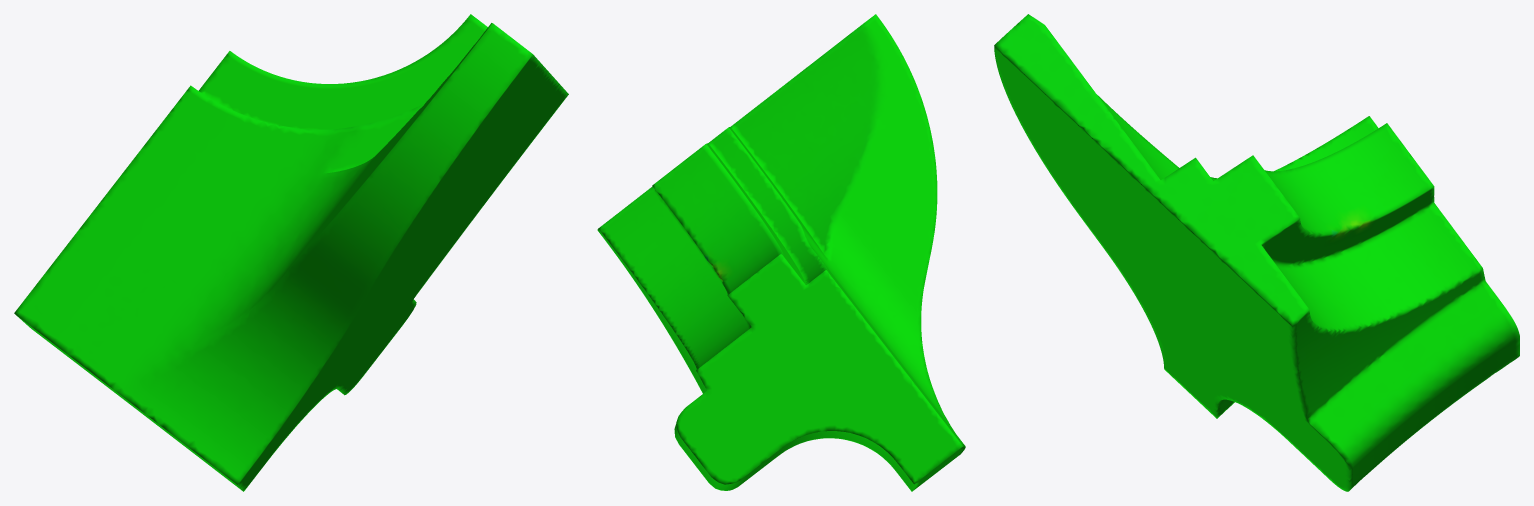
The model's file is all=0.000035-hole=0.000841-mgcn.obj.
3 views of the same model, side by side, from view 1: azimuth 30°, elevation 25°; view 2: azimuth 150°, elevation 25°; view 3: azimuth 270°, elevation 25° (orthographic). The views are drawn at different scales.
Size of the model in its own units: 83.98 by 79.2 by 79.93.
